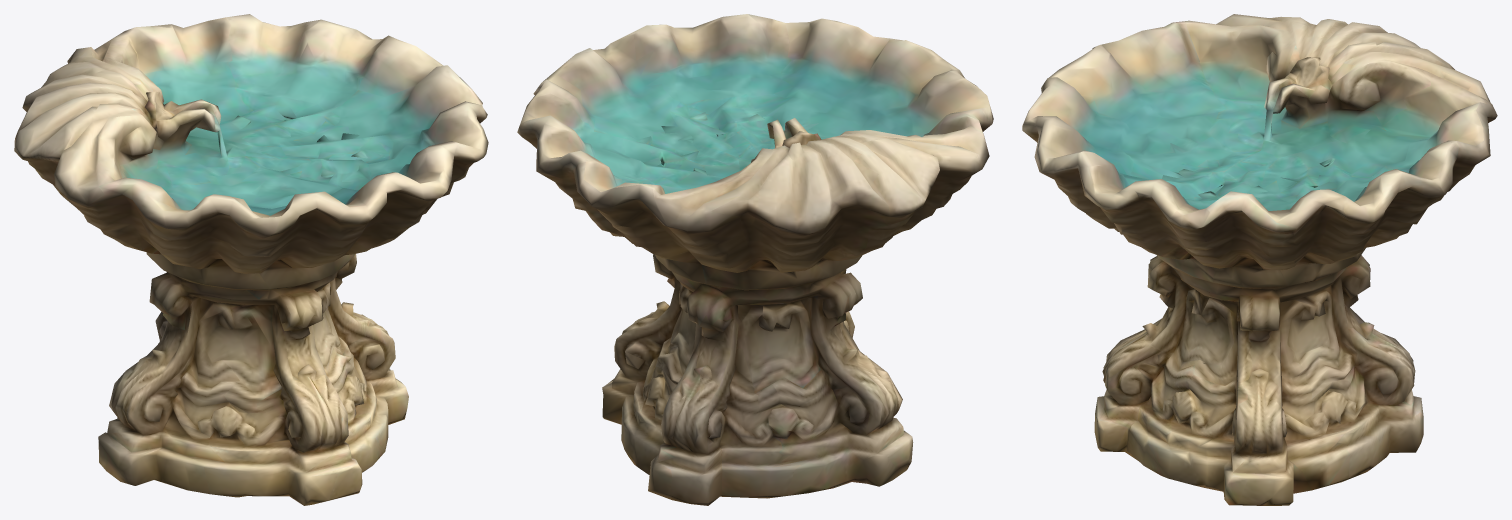
Rendered from deco_fountain.glb.
3 views of the same model, side by side, from view 1: azimuth 30°, elevation 25°; view 2: azimuth 150°, elevation 25°; view 3: azimuth 270°, elevation 25° (orthographic).
Visible parts, largest first — view 1: tripo_node_69021417-1c59-41f2-840c-ce03526d9a87; view 2: tripo_node_69021417-1c59-41f2-840c-ce03526d9a87; view 3: tripo_node_69021417-1c59-41f2-840c-ce03526d9a87.
Boxes of the visible parts, x1,y1,x2,y2 form: tripo_node_69021417-1c59-41f2-840c-ce03526d9a87: (14,14,488,505); tripo_node_69021417-1c59-41f2-840c-ce03526d9a87: (517,14,993,505); tripo_node_69021417-1c59-41f2-840c-ce03526d9a87: (1022,14,1497,505).
Bounding box in the file's own units: 0.9974 × 0.8158 × 1.
Materials: 1 (1 with a texture image).
